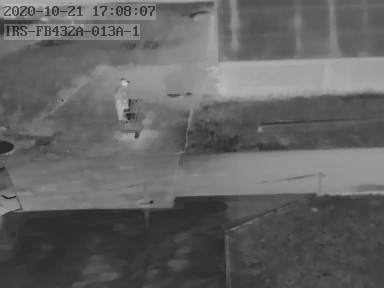person: (113, 76, 129, 121)
